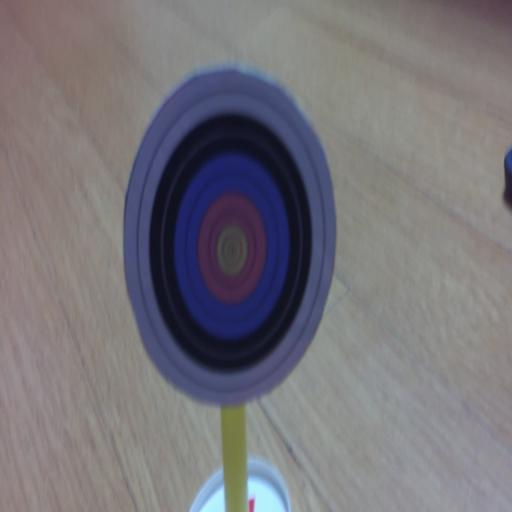target: (123, 68, 336, 406)
